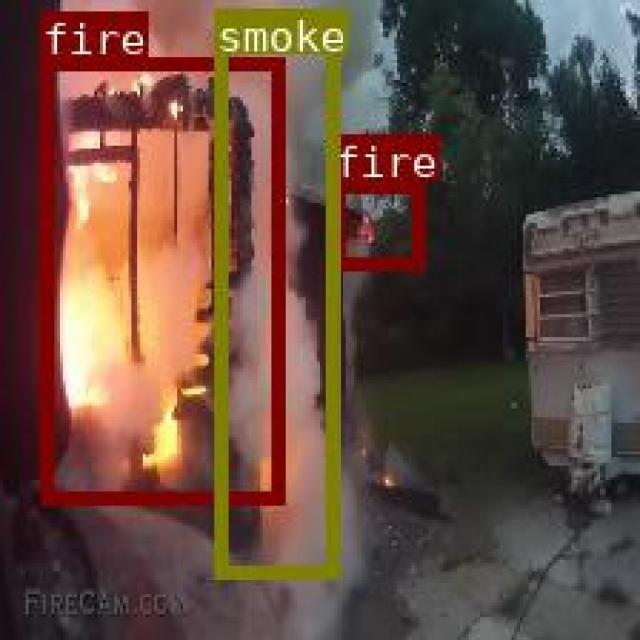fire: (39, 57, 282, 503), (330, 179, 422, 267)
smoke: (212, 7, 336, 577)
